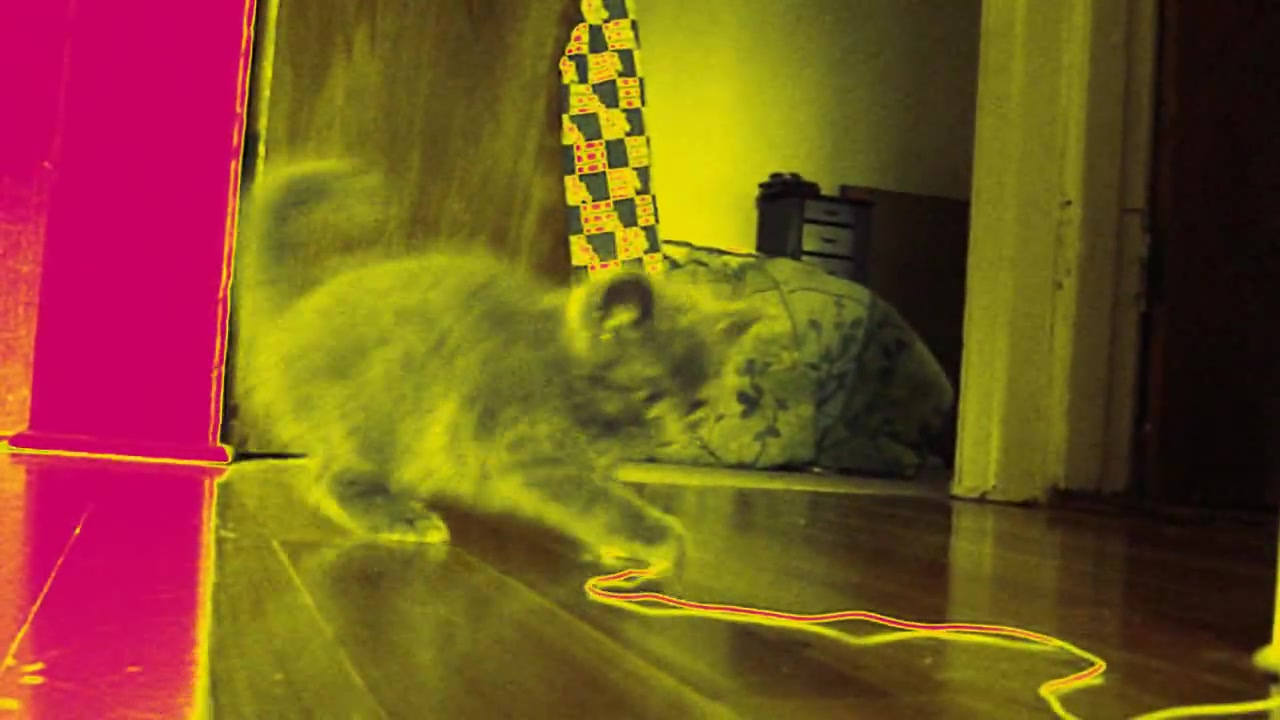cat: (234, 156, 760, 584)
